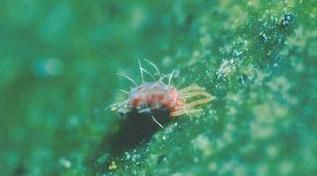tiny_pests: (102, 51, 216, 144)
